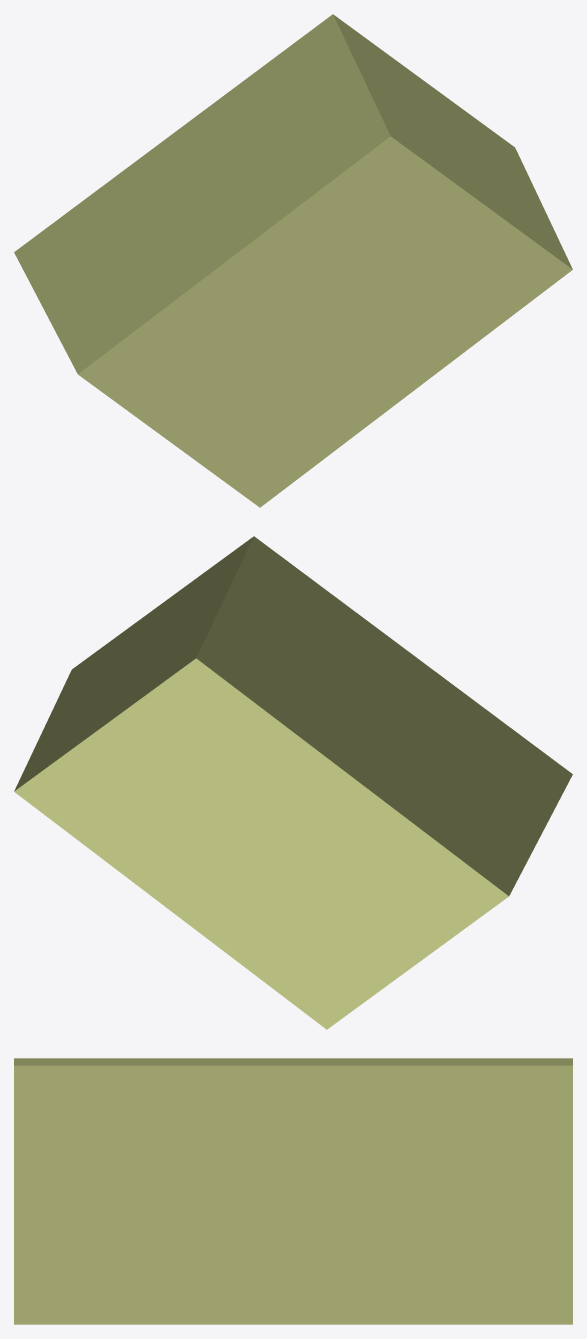
The picture shows the model from 3 angles, top to bottom: view 1: azimuth 30°, elevation 25°; view 2: azimuth 150°, elevation 25°; view 3: azimuth 270°, elevation 25°; orthographic projection. The views are drawn at different scales.
Visible parts, largest first — view 1: 0_1_1_3_3_1_0_2_3_3_2; view 2: 0_1_1_3_3_1_0_2_3_3_2; view 3: 0_1_1_3_3_1_0_2_3_3_2.
Boxes of the visible parts, <box> form: 0_1_1_3_3_1_0_2_3_3_2: <box>14,14,572,507</box>; 0_1_1_3_3_1_0_2_3_3_2: <box>14,536,572,1029</box>; 0_1_1_3_3_1_0_2_3_3_2: <box>14,1058,572,1324</box>.
Size of the model in its own units: 10.74 by 8.12 by 9.
